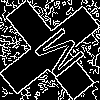M: (25, 25, 87, 87)
